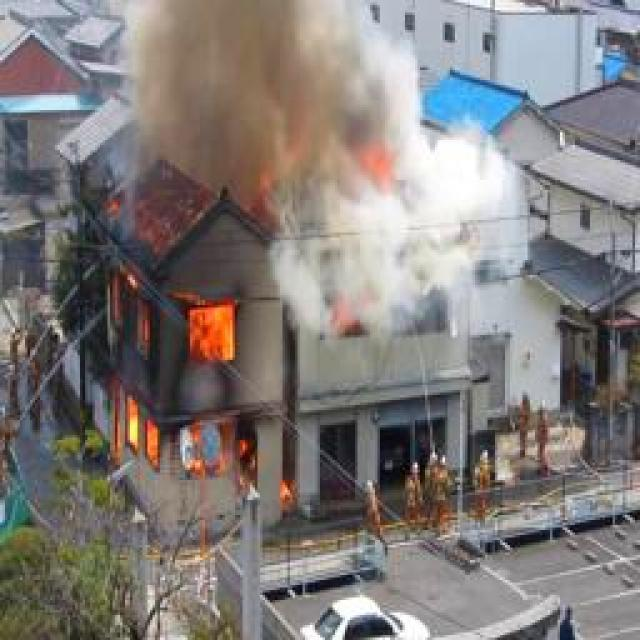Fire: (89, 248, 303, 534)
